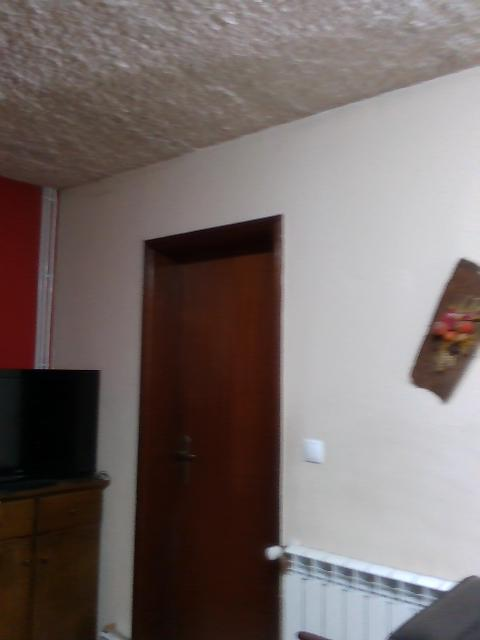door: (150, 255, 271, 640)
